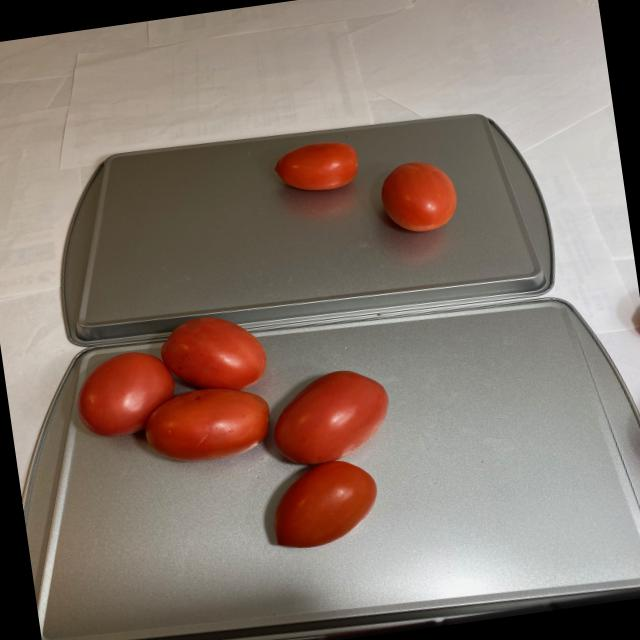tomato: (64, 296, 406, 582), (268, 124, 461, 258)
